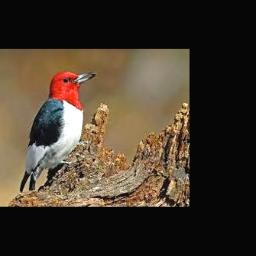Woodpecker: (19, 71, 96, 193)
